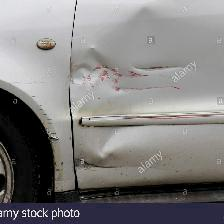door_dent: (37, 25, 223, 173)
